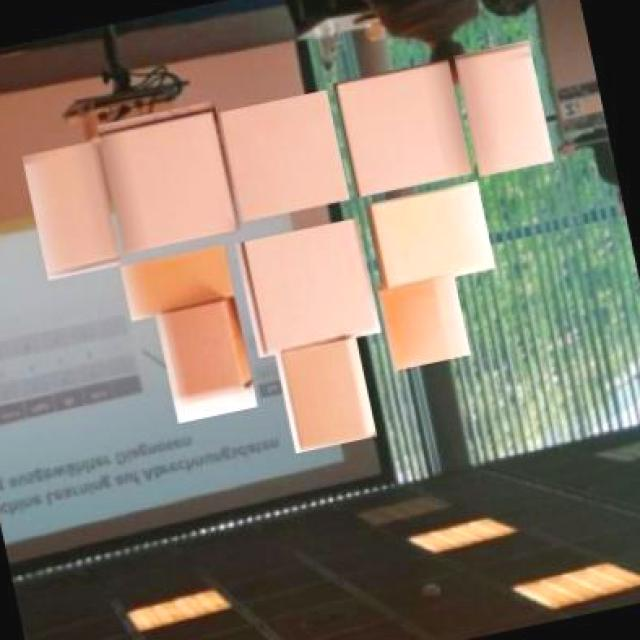box: (95, 97, 244, 256), (234, 213, 385, 359), (332, 55, 477, 198), (218, 85, 354, 224), (364, 176, 500, 292), (21, 137, 125, 280), (455, 36, 557, 178), (156, 296, 262, 424), (274, 329, 381, 454), (376, 266, 474, 371), (120, 242, 240, 322)
